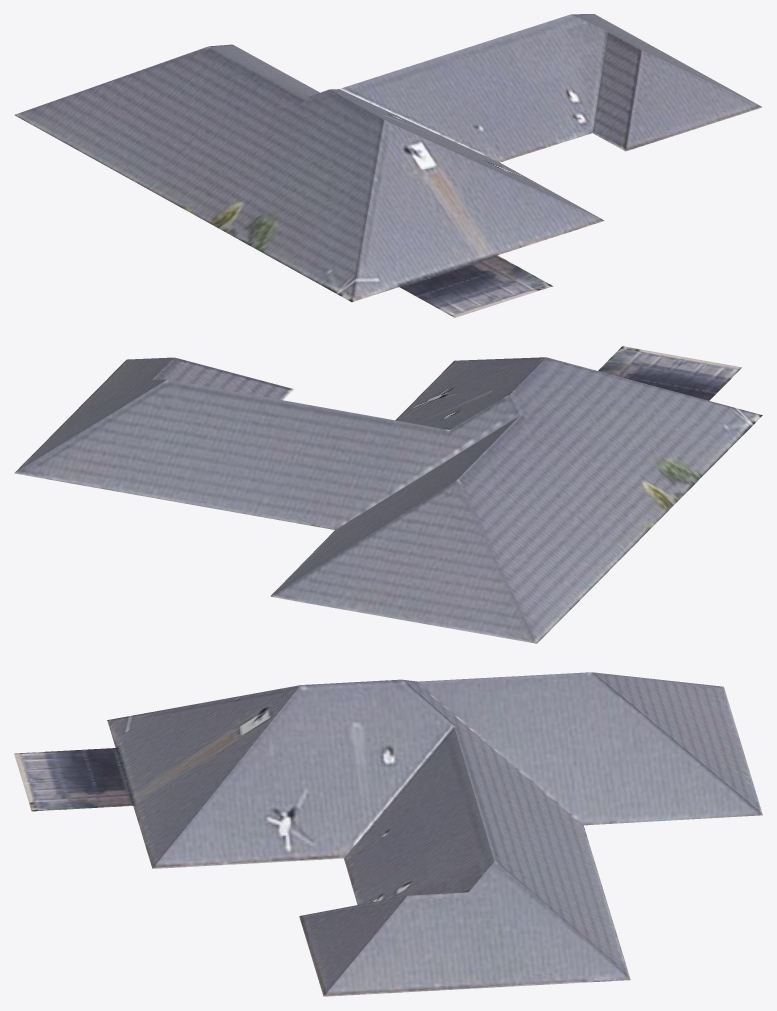
The model's file is BK39_500_018025_0020_roof.obj.
3 renders of one model, top to bottom at view 1: azimuth 30°, elevation 25°; view 2: azimuth 150°, elevation 25°; view 3: azimuth 270°, elevation 25°, orthographic. The views are drawn at different scales.
Parts seen in each view (by area): view 1: BK39_500_018025_0020_roof; view 2: BK39_500_018025_0020_roof; view 3: BK39_500_018025_0020_roof.
Boxes of the visible parts, x1,y1,x2,y2 form: BK39_500_018025_0020_roof: [14, 14, 762, 317]; BK39_500_018025_0020_roof: [14, 346, 762, 643]; BK39_500_018025_0020_roof: [14, 672, 762, 996].
Size of the model in its own units: 466 by 70 by 475.
1 material, 1 textured.
